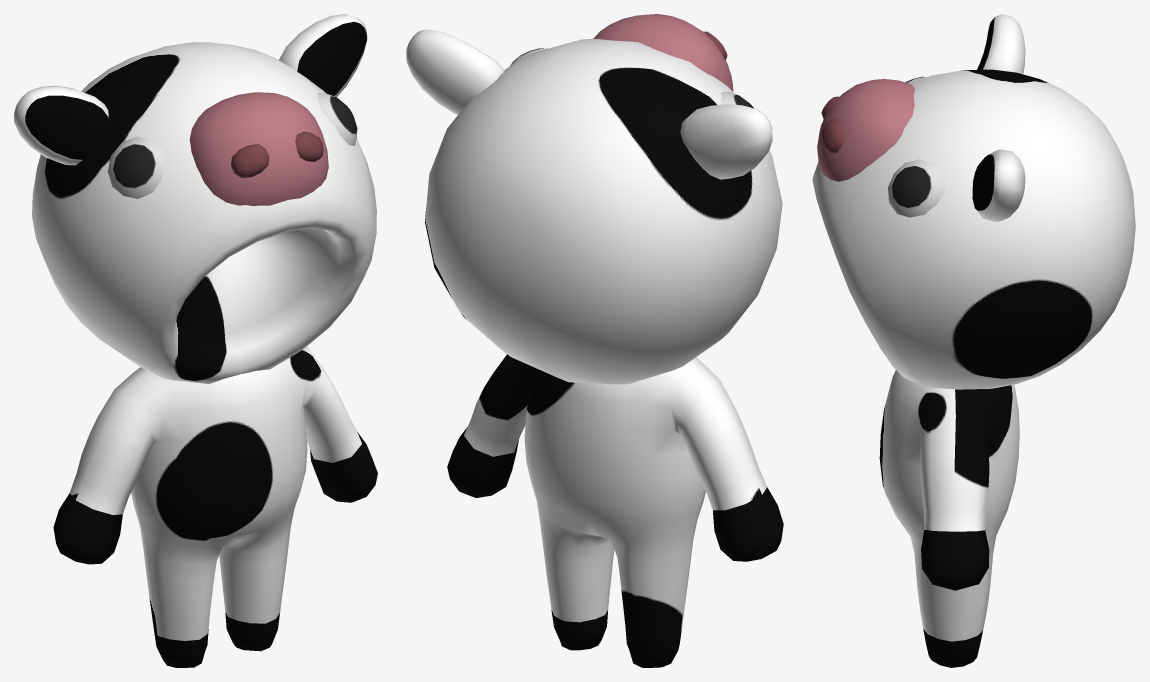
The model's file is Boquanaobosuatreo.fbx.
3 views of the same model, side by side, from view 1: azimuth 30°, elevation 25°; view 2: azimuth 150°, elevation 25°; view 3: azimuth 270°, elevation 25° (orthographic). The views are drawn at different scales.
Visible parts, largest first — view 1: Bodobosuatreo; view 2: Bodobosuatreo; view 3: Bodobosuatreo.
Part boxes in pixels (x1=…): Bodobosuatreo: x1=14, y1=14, x2=377, y2=667; Bodobosuatreo: x1=406, y1=14, x2=783, y2=667; Bodobosuatreo: x1=812, y1=14, x2=1135, y2=667.
Size of the model in its own units: 184 by 296 by 154.
